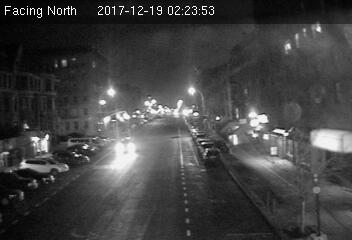car: (114, 135, 141, 157)
